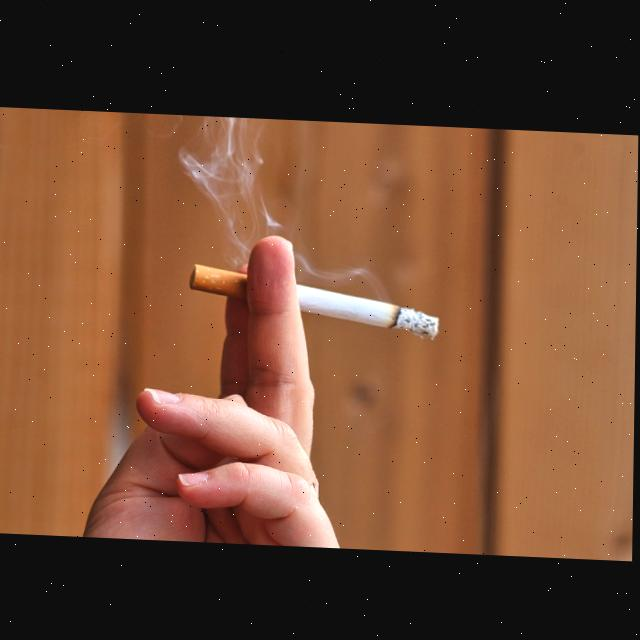cigarette: (189, 262, 442, 337)
